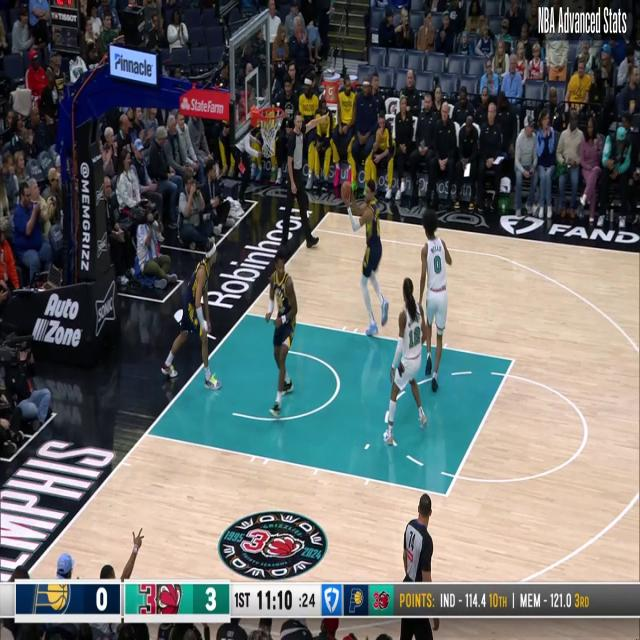ball: (341, 181, 352, 203)
judge: (278, 108, 326, 253), (400, 501, 438, 636)
player: (162, 232, 220, 392), (384, 279, 426, 440), (348, 180, 390, 339), (419, 208, 451, 396), (264, 251, 299, 418)
